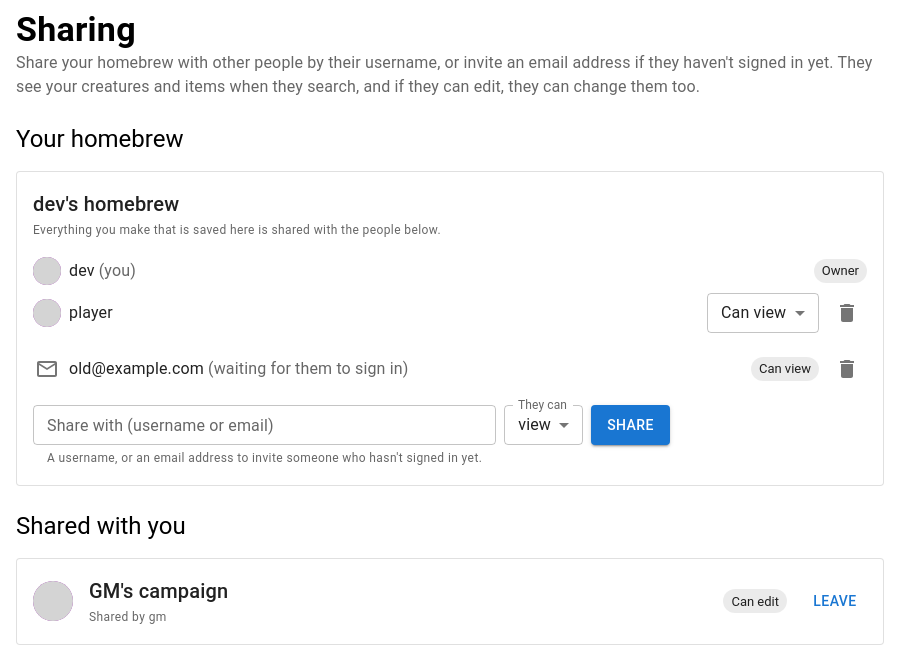
Test case: inviting an email address › lists the pending invitations, which can be cancelled
Expected: the element "dev's homebrew" is shown, [16, 171, 884, 486]
Expected: the text "old@example.com" is shown, [69, 359, 204, 378]
Click the button named "Cancel invitation to old@example.com": (847, 369) [827, 349, 867, 389]
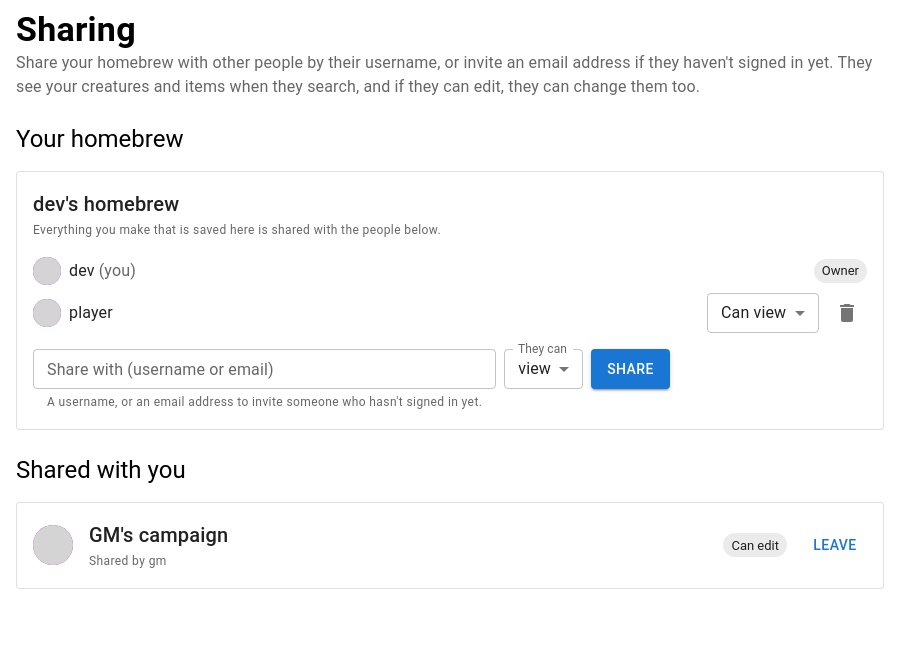
Expected: the list "Invited" is gone
